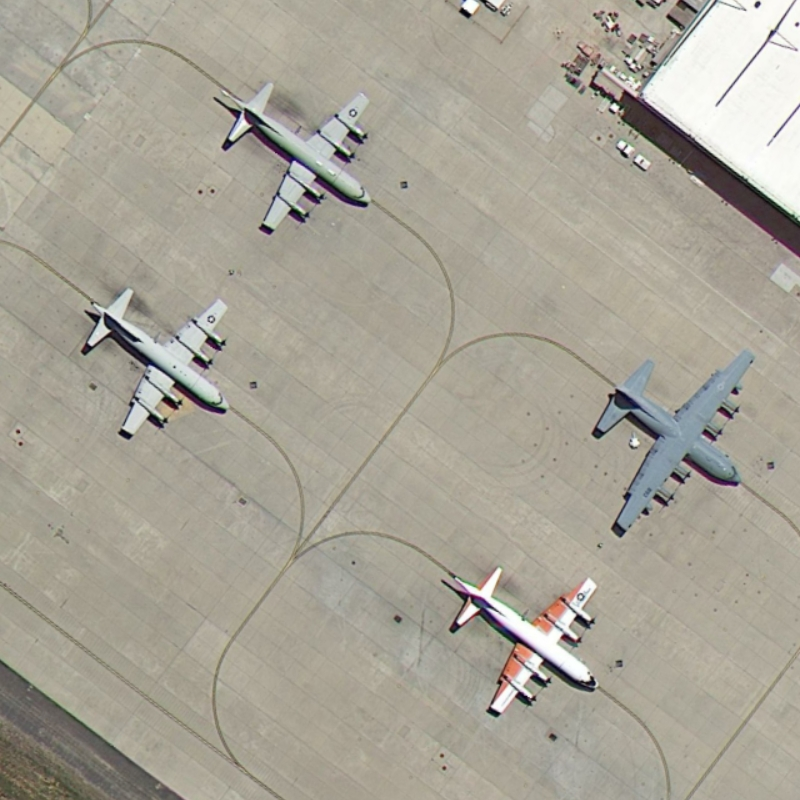A2: (580, 344, 757, 539)
A9: (208, 72, 384, 234), (434, 559, 607, 722), (74, 290, 240, 442)
